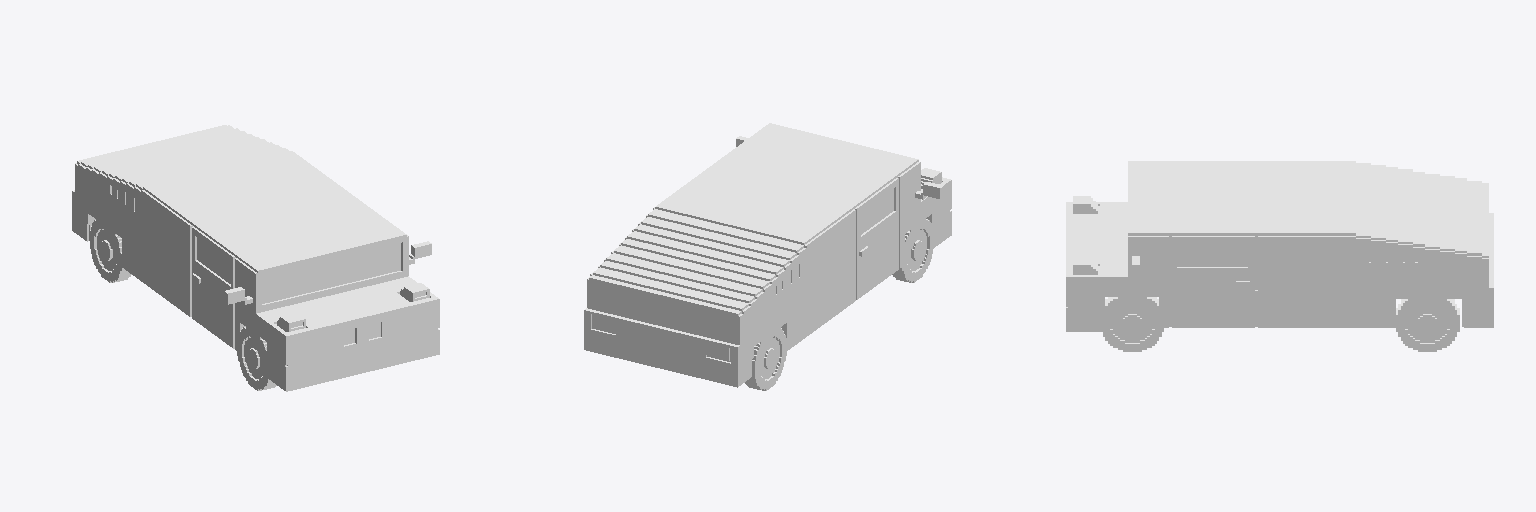
File: fancy-car.obj
The picture shows the model from 3 angles: view 1: azimuth 30°, elevation 25°; view 2: azimuth 150°, elevation 25°; view 3: azimuth 270°, elevation 25°; orthographic projection.
Visible parts, largest first — view 1: object 1; view 2: object 1; view 3: object 1.
Part boxes in pixels (bbox=[...]): object 1: bbox=[72, 125, 439, 391]; object 1: bbox=[584, 123, 951, 390]; object 1: bbox=[1066, 161, 1493, 351].
Size of the model in its own units: 9.6 by 5.3 by 17.4.